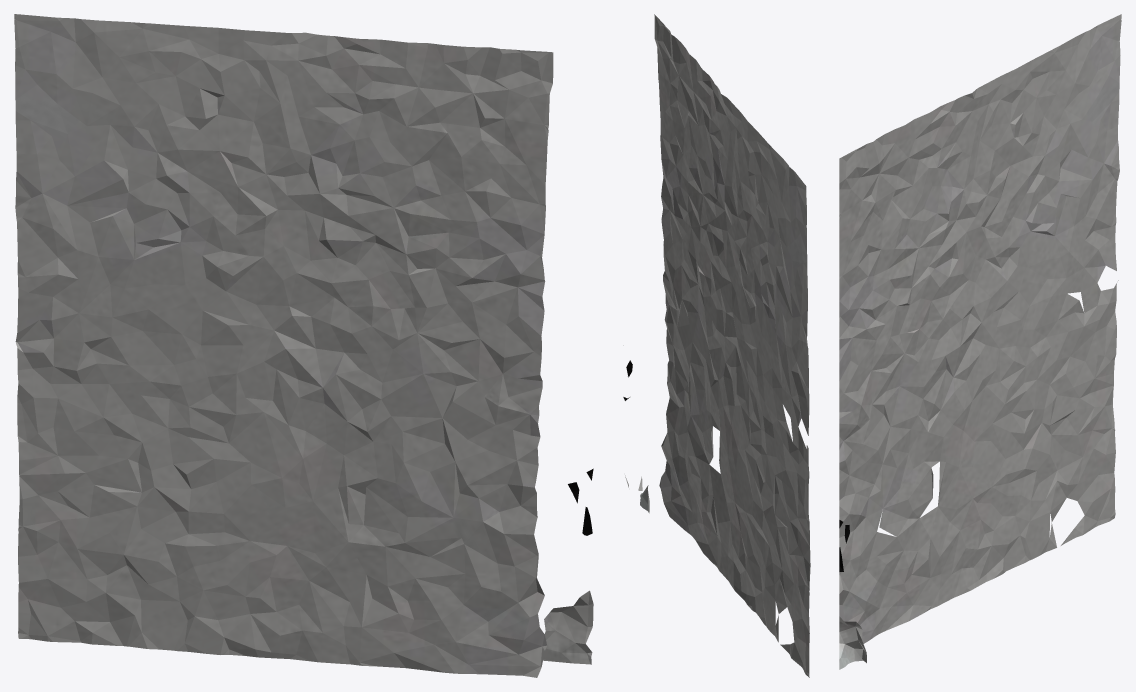
3 views of the same model, side by side, from view 1: azimuth 30°, elevation 25°; view 2: azimuth 150°, elevation 25°; view 3: azimuth 270°, elevation 25° (orthographic). The views are drawn at different scales.
Bounding box in the file's own units: 0.5711 × 0.8374 × 0.4249.
2 materials, 2 textured.
